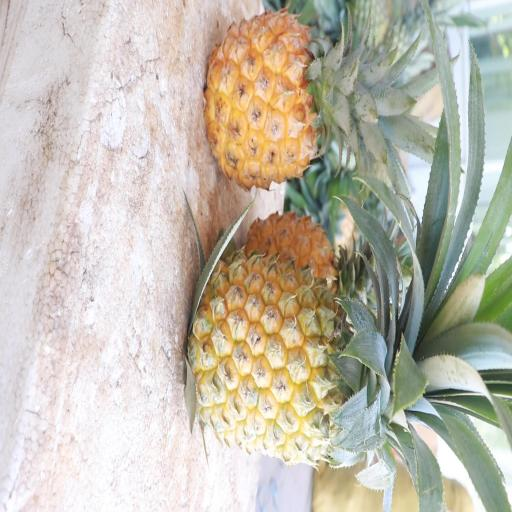Pineapple - v8 v1: (186, 244, 444, 470), (200, 4, 384, 194), (242, 208, 372, 320)
